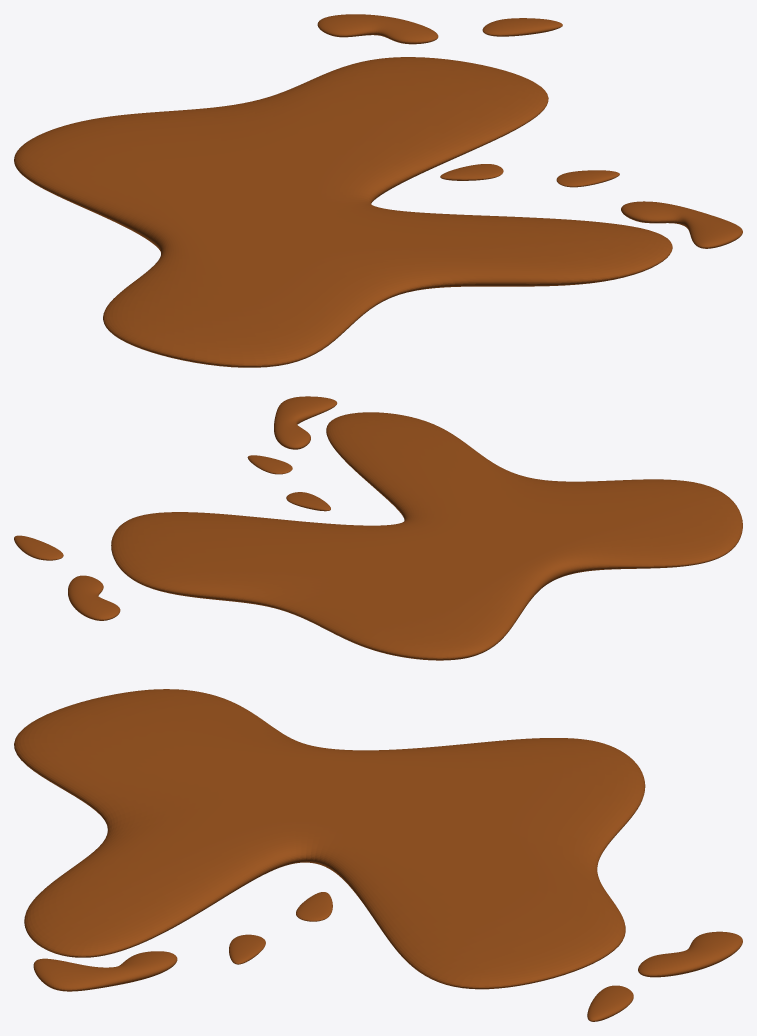
File: assets mancha de grasa 2.fbx
3 views of the same model, one above another, from view 1: azimuth 30°, elevation 25°; view 2: azimuth 150°, elevation 25°; view 3: azimuth 270°, elevation 25° (orthographic). The views are drawn at different scales.
Parts seen in each view (by area): view 1: Miel 2; view 2: Miel 2; view 3: Miel 2.
Part boxes in pixels (<box>): Miel 2: <box>14,14,742,367</box>; Miel 2: <box>14,396,742,660</box>; Miel 2: <box>14,689,742,1021</box>.
Bounding box in the file's own units: 334 × 11.46 × 306.
